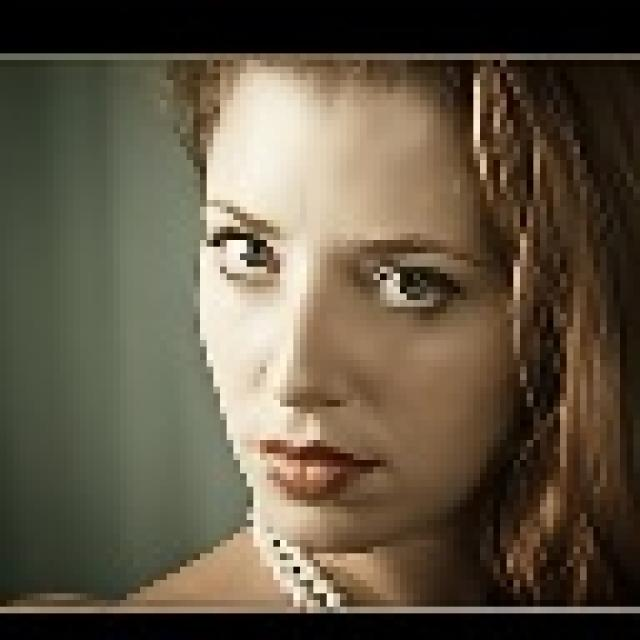angry: (151, 68, 568, 619)
